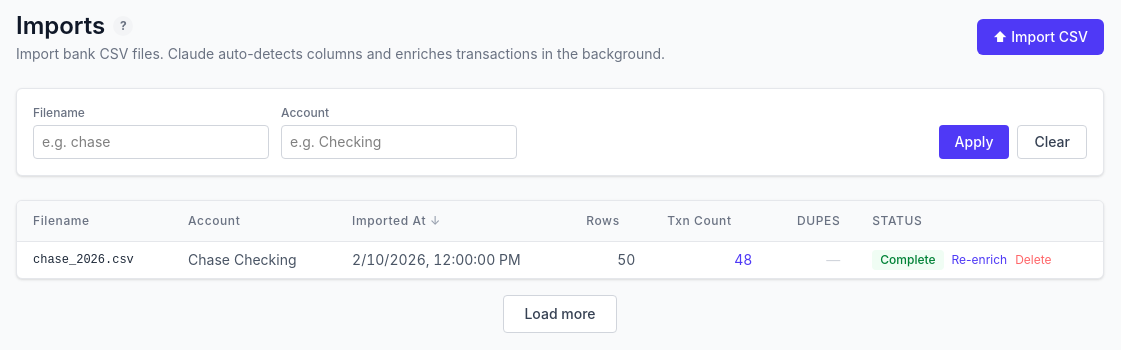
Scenario: ImportsPage › shows Load more button when hasMore is true
This screenshot has width=1121, height=350.
expect the text "chase_2026.csv" is shown: met, box [17, 242, 172, 278]
Click the button "Load more".
click(560, 314)  # box [503, 295, 616, 333]
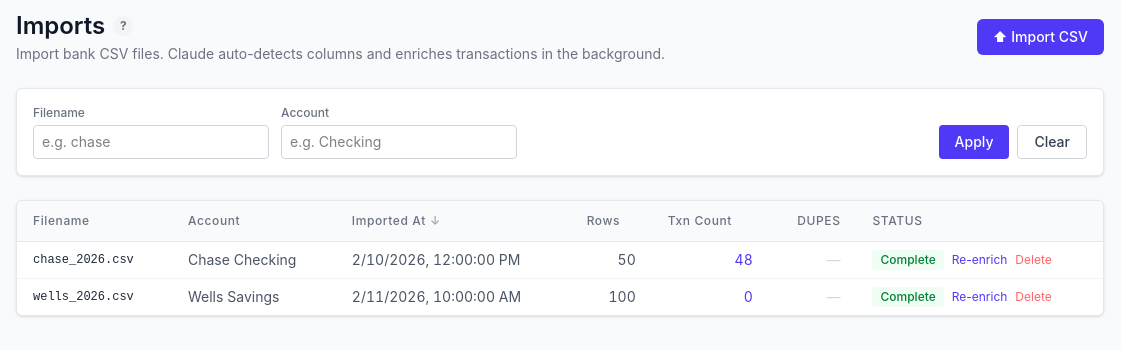
expect the text "wells_2026.csv" is shown: met, box [17, 278, 172, 315]
